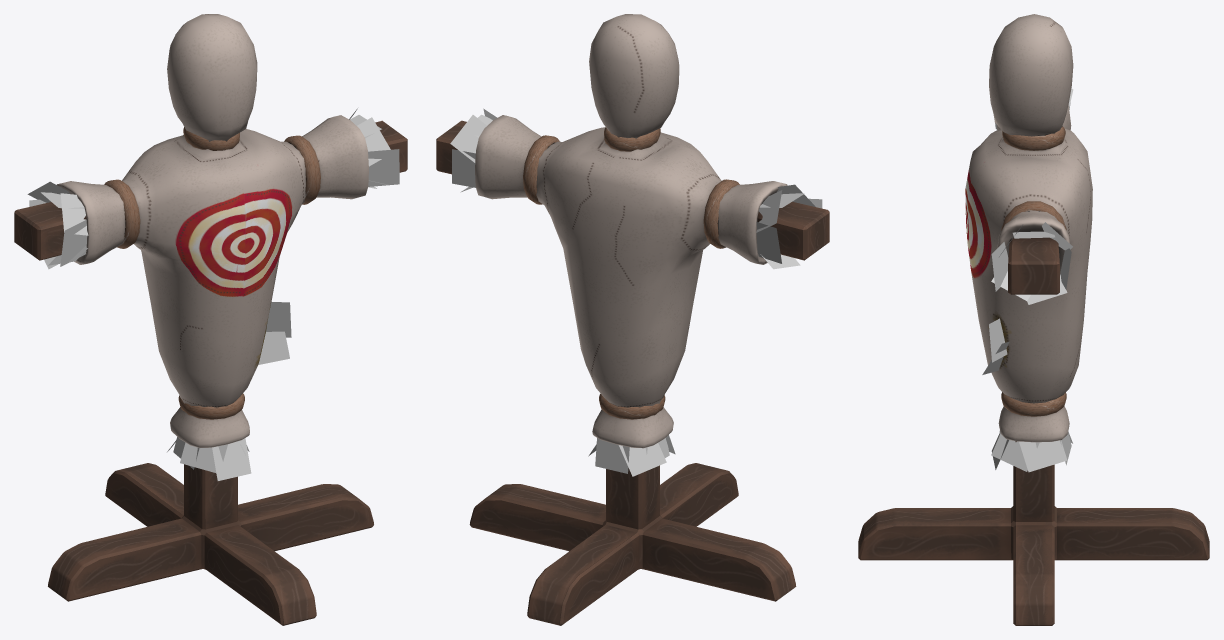
Rendered from TargetDummy.fbx.
3 renders of one model, left to right at view 1: azimuth 30°, elevation 25°; view 2: azimuth 150°, elevation 25°; view 3: azimuth 270°, elevation 25°, orthographic.
Visible parts, largest first — view 1: pTorus6, pPlane3_blinn2_0.002, pPlane3, pPlane2_blinn2_0.002, pPlane9, pPlane2_blinn2_0.001, pPlane3_blinn2_0.001, pPlane8, pPlane2; view 2: pTorus6, pPlane4_blinn2_0.002, pPlane7_blinn2_0.002, pPlane4, pPlane7, pPlane7_blinn2_0.001, pPlane4_blinn2_0.001; view 3: pTorus6, pPlane6_blinn2_0.002, pPlane5_blinn2_0.002, pPlane3, pPlane8.
Boxes of the visible parts, x1,y1,x2,y2 form: pTorus6: [14, 14, 407, 625]; pPlane3_blinn2_0.002: [212, 438, 251, 480]; pPlane3: [368, 149, 399, 186]; pPlane2_blinn2_0.002: [180, 442, 227, 472]; pPlane9: [258, 331, 289, 364]; pPlane2_blinn2_0.001: [60, 193, 88, 235]; pPlane3_blinn2_0.001: [60, 220, 87, 266]; pPlane8: [266, 302, 291, 337]; pPlane2: [357, 117, 390, 166]; pTorus6: [436, 14, 829, 625]; pPlane4_blinn2_0.002: [618, 443, 666, 476]; pPlane7_blinn2_0.002: [595, 438, 629, 473]; pPlane4: [450, 115, 486, 162]; pPlane7: [452, 149, 475, 187]; pPlane7_blinn2_0.001: [756, 222, 781, 263]; pPlane4_blinn2_0.001: [756, 190, 782, 232]; pTorus6: [858, 14, 1209, 625]; pPlane6_blinn2_0.002: [1019, 440, 1067, 472]; pPlane5_blinn2_0.002: [991, 433, 1039, 471]; pPlane3: [991, 242, 1008, 291]; pPlane8: [989, 318, 1007, 362].
Bounding box in the file's own units: 10.3 × 14.36 × 8.57.
